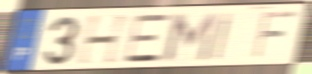3: (42, 15, 80, 67)
E: (122, 12, 171, 65)
F: (250, 9, 300, 61)
H: (75, 12, 133, 66)
I: (211, 11, 235, 62)
M: (162, 10, 221, 63)
